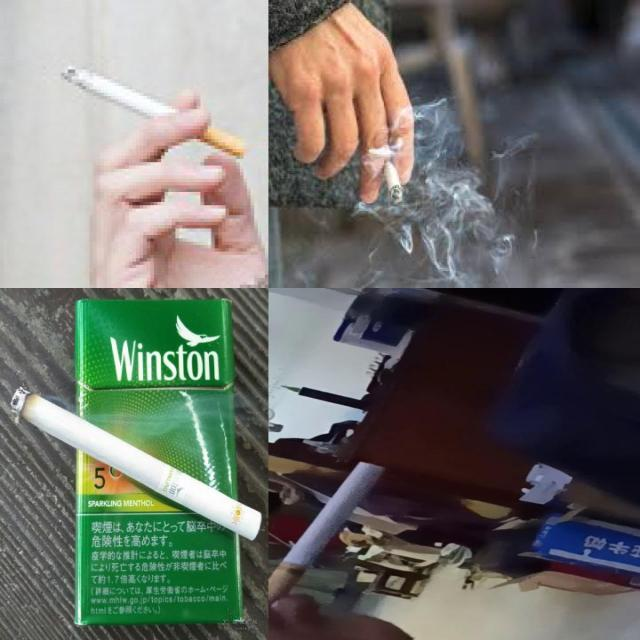smoking: (10, 386, 264, 541), (58, 62, 248, 160), (268, 461, 388, 604), (382, 154, 402, 207)
